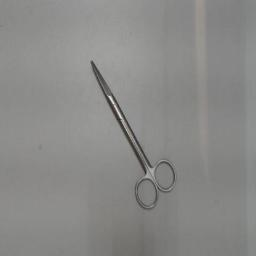Curved Mayo Scissors: (86, 52, 180, 216)
